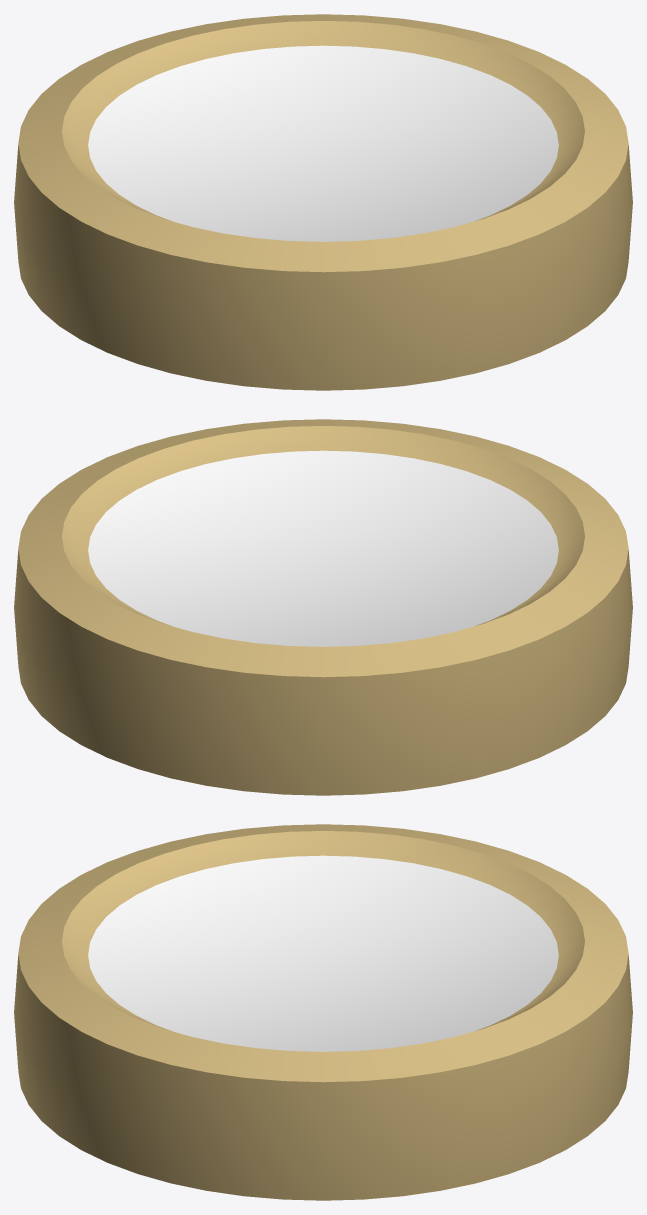
File: backgammon-checker-light.web.glb
The picture shows the model from 3 angles, top to bottom: view 1: azimuth 30°, elevation 25°; view 2: azimuth 150°, elevation 25°; view 3: azimuth 270°, elevation 25°; orthographic projection.
Parts seen in each view (by area): view 1: Checker_light; view 2: Checker_light; view 3: Checker_light.
Part boxes in pixels (x1=…): Checker_light: x1=14, y1=14, x2=632, y2=390; Checker_light: x1=14, y1=419, x2=632, y2=795; Checker_light: x1=14, y1=824, x2=632, y2=1200.
Size of the model in its own units: 0.1183 by 0.03 by 0.1183.
